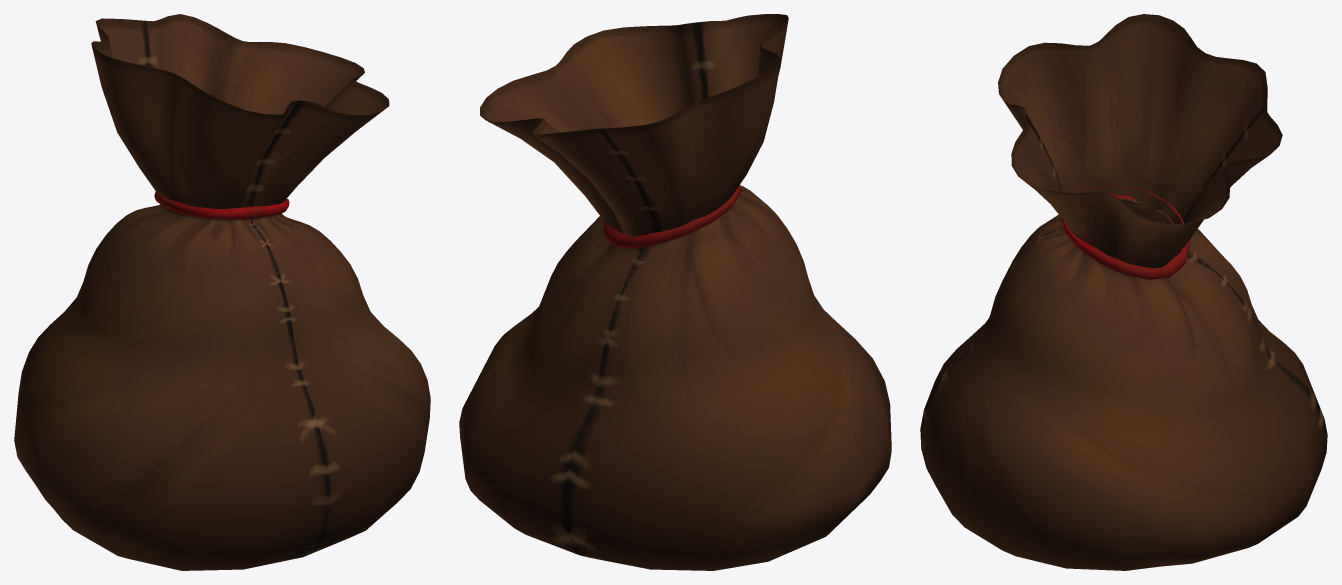
Rendered from Prop_ItemBag.fbx.
3 renders of one model, left to right at view 1: azimuth 30°, elevation 25°; view 2: azimuth 150°, elevation 25°; view 3: azimuth 270°, elevation 25°, orthographic. The views are drawn at different scales.
Parts seen in each view (by area): view 1: Item_Bag; view 2: Item_Bag; view 3: Item_Bag.
Part boxes in pixels (x1,y1,x2,y2): Item_Bag: (14, 14, 430, 570); Item_Bag: (459, 14, 891, 570); Item_Bag: (920, 14, 1327, 570).
Bounding box in the file's own units: 10.33 × 12.94 × 10.42.
